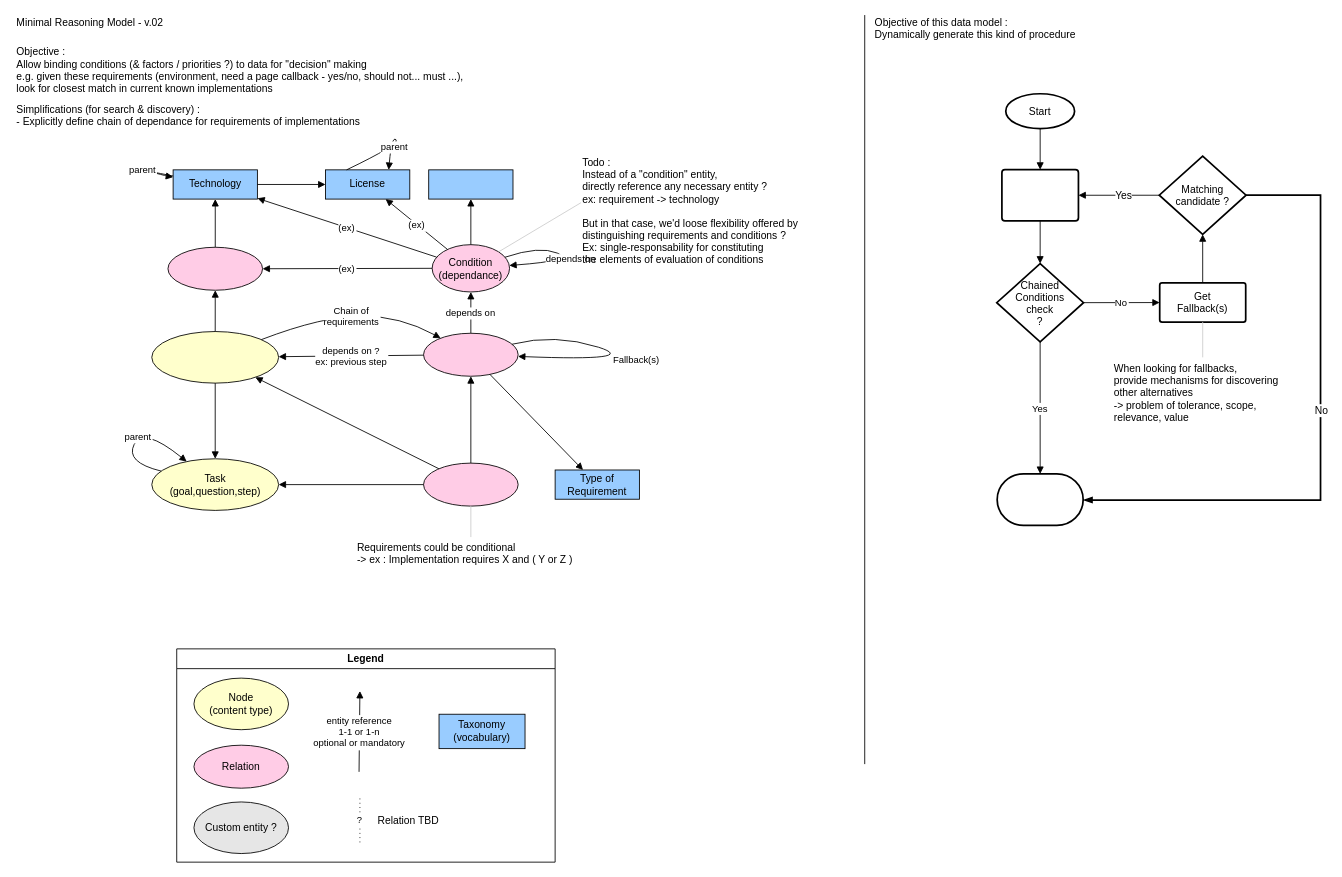
This 1342x877 diagram has some shape labels left out. The centre of each missing label's shape, as x and y in pixels:
Alternative (or variant): the point at 470,484
Constitute Chain of Requirements: the point at 1040,194
End (Results): the point at 1040,499
Environment (tested in): the point at 215,268
Implementation (choice,decision,how): the point at 215,357
Requirement (assertion,test): the point at 470,354
Type of Condition: the point at 470,184
